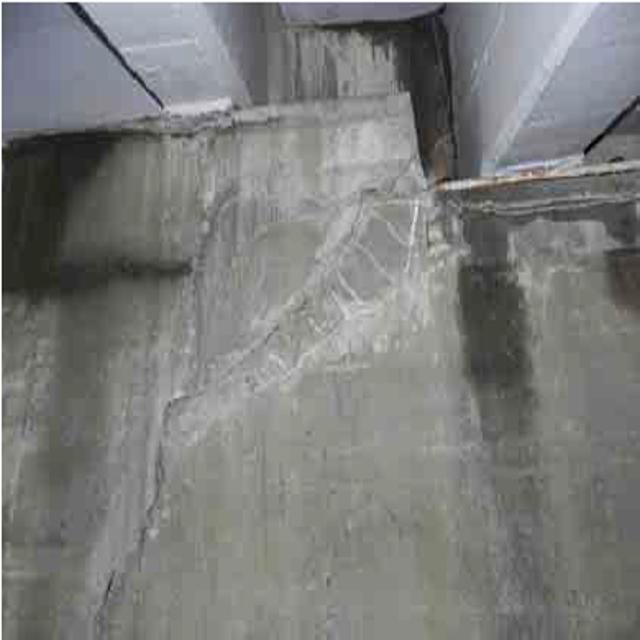crack: (89, 378, 194, 626)
